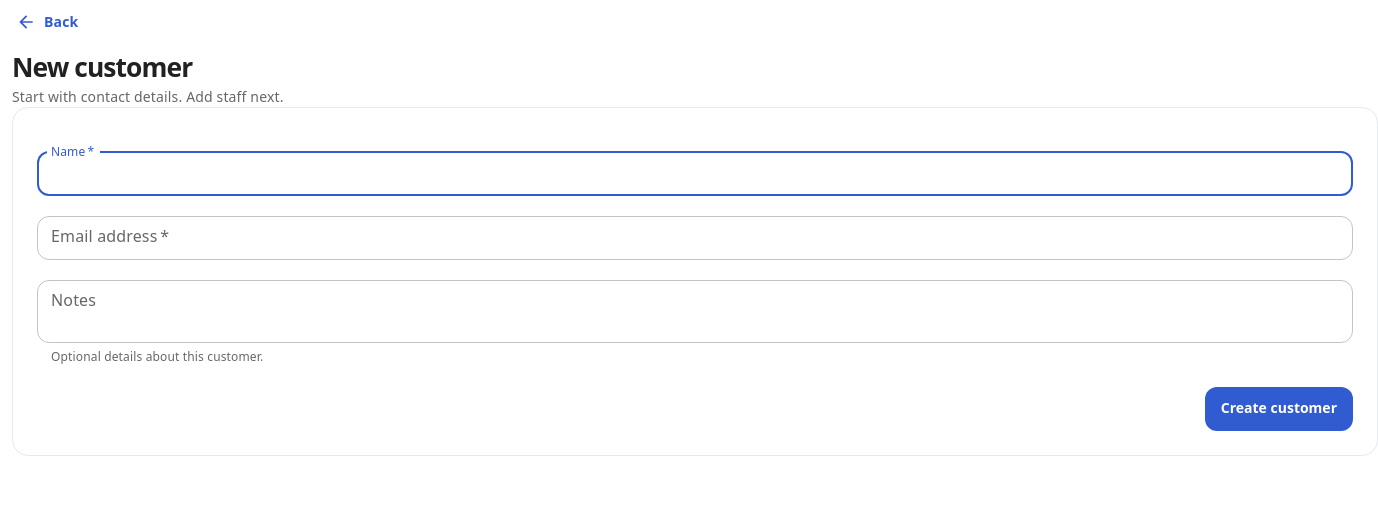
Test case: customer workflows › shows accessible field validation without making a request
Click the button "Create customer". click: [1279, 409]
box: [1205,387,1353,431]
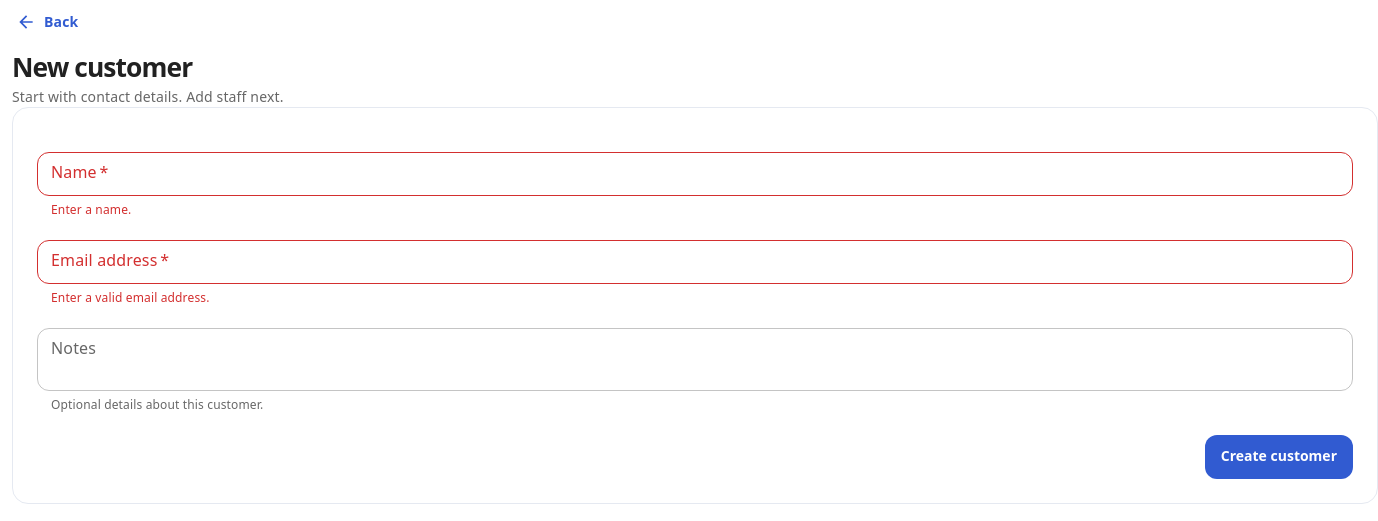
expect the text "Enter a name." is shown: met, box [51,201,131,218]
